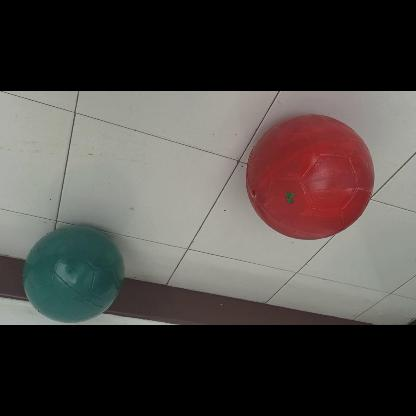green_ball: (23, 224, 122, 324)
